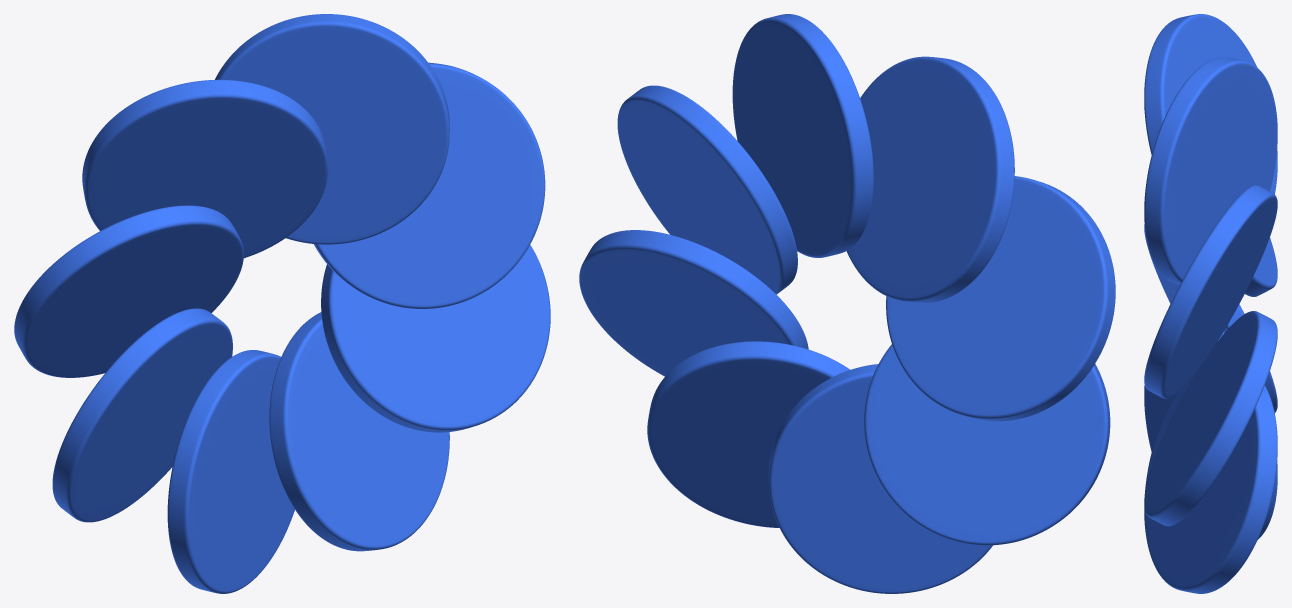
3 renders of one model, left to right at view 1: azimuth 30°, elevation 25°; view 2: azimuth 150°, elevation 25°; view 3: azimuth 270°, elevation 25°, orthographic. The views are drawn at different scales.
Parts seen in each view (by area): view 1: shape1; view 2: shape1; view 3: shape1.
Part boxes in pixels (x1=…): shape1: x1=14, y1=14, x2=550, y2=593; shape1: x1=579, y1=14, x2=1115, y2=593; shape1: x1=1144, y1=14, x2=1277, y2=593.
Bounding box in the file's own units: 4.1 × 4.1 × 0.9641.
